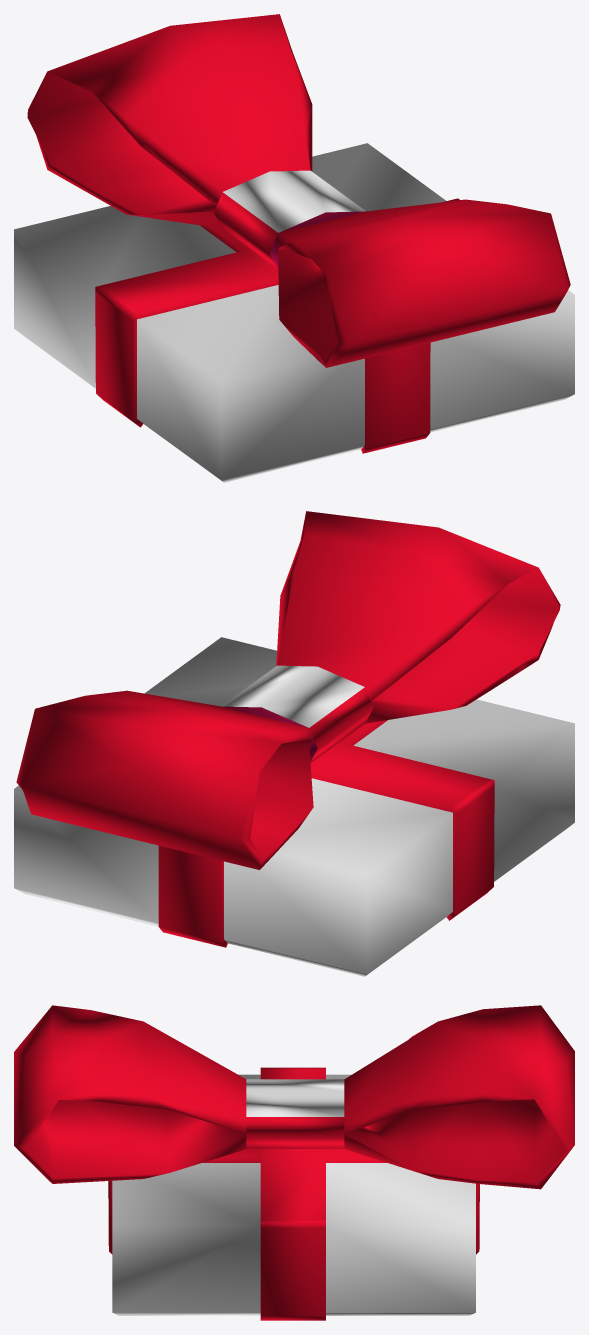
File: box_top.fbx
3 renders of one model, top to bottom at view 1: azimuth 30°, elevation 25°; view 2: azimuth 150°, elevation 25°; view 3: azimuth 270°, elevation 25°, orthographic. The views are drawn at different scales.
Visible parts, largest first — view 1: ribbon1, top; view 2: ribbon1, top; view 3: ribbon1, top.
Part boxes in pixels (x1=…): ribbon1: x1=27, y1=14, x2=570, y2=367; top: x1=14, y1=143, x2=574, y2=482; ribbon1: x1=16, y1=511, x2=560, y2=869; top: x1=14, y1=637, x2=574, y2=976; ribbon1: x1=14, y1=1005, x2=574, y2=1189; top: x1=108, y1=1067, x2=479, y2=1320.
Size of the model in its own units: 281 by 177 by 429.
